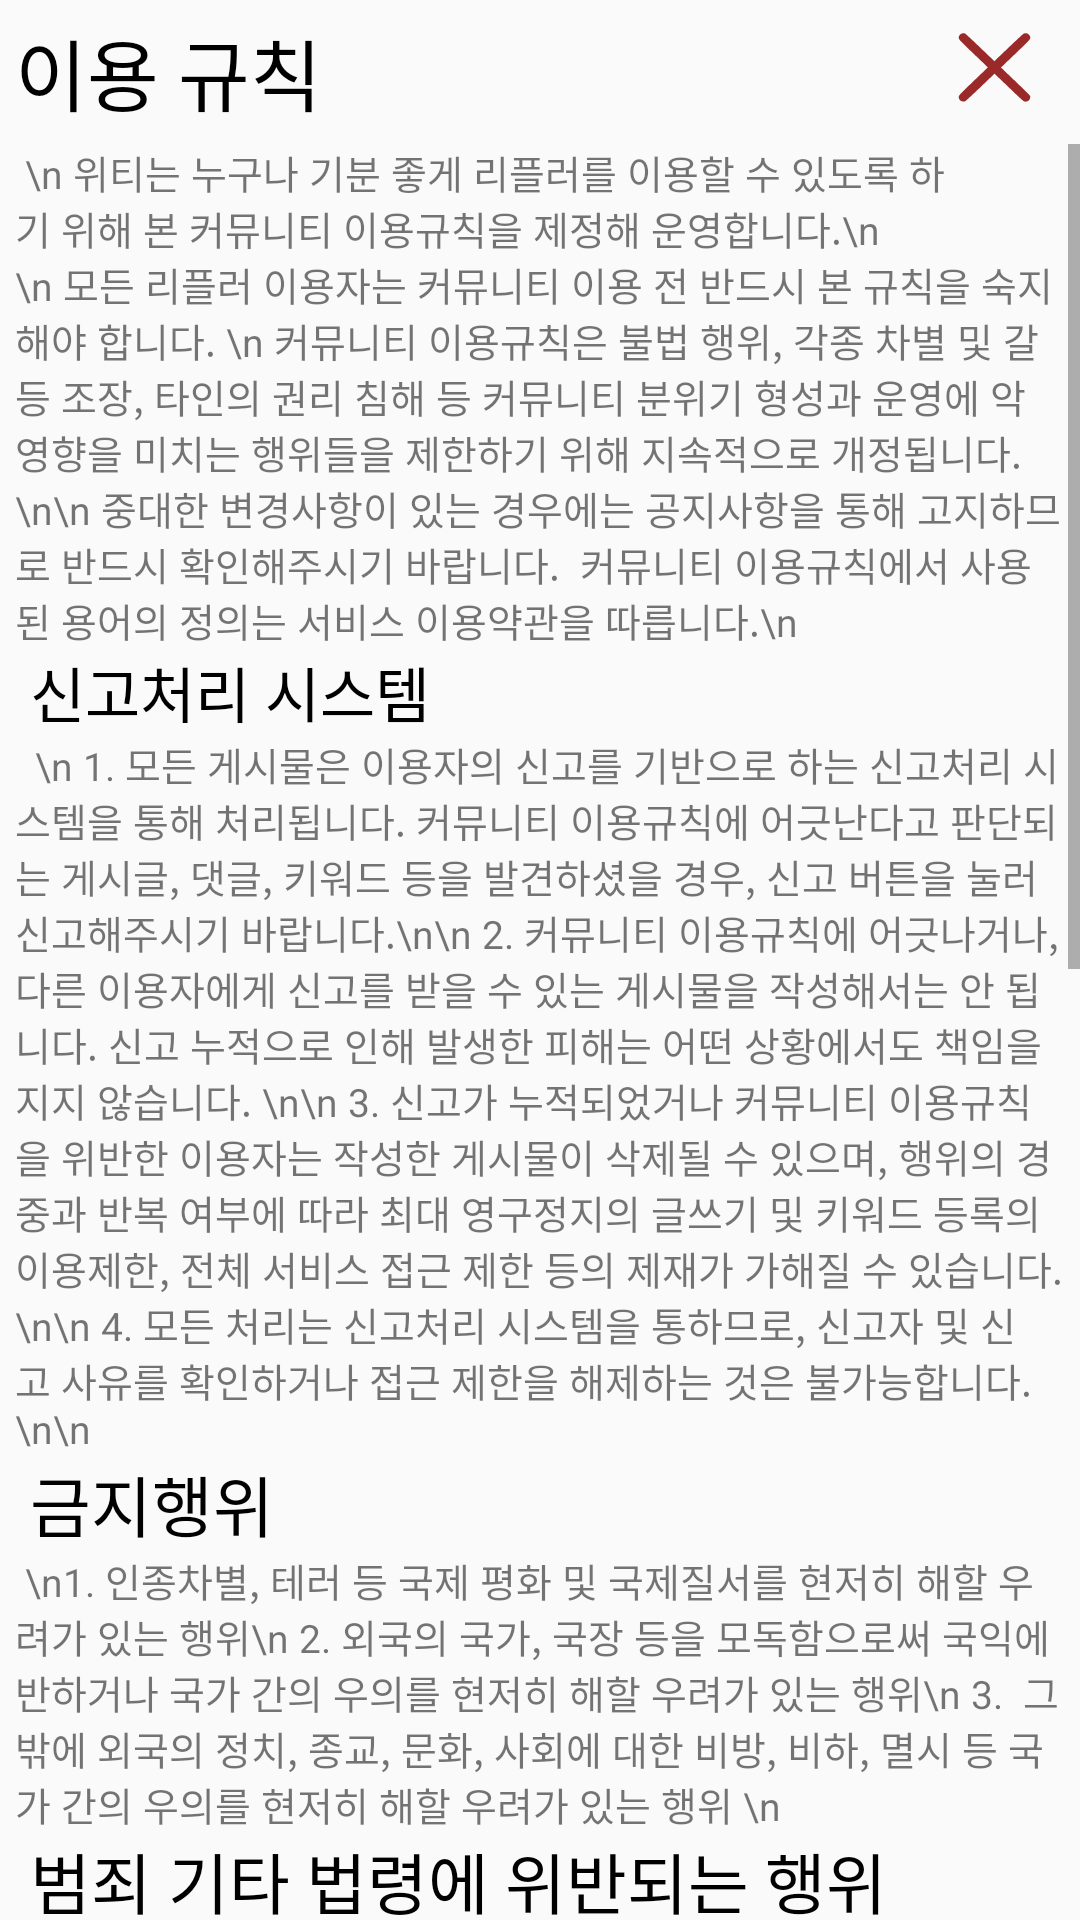

Locate icon controls on the screen. Image size 1080px×1920px, boxes as Rect(x1, y1, x2, y2).
cancel: Rect(958, 33, 1031, 102)
